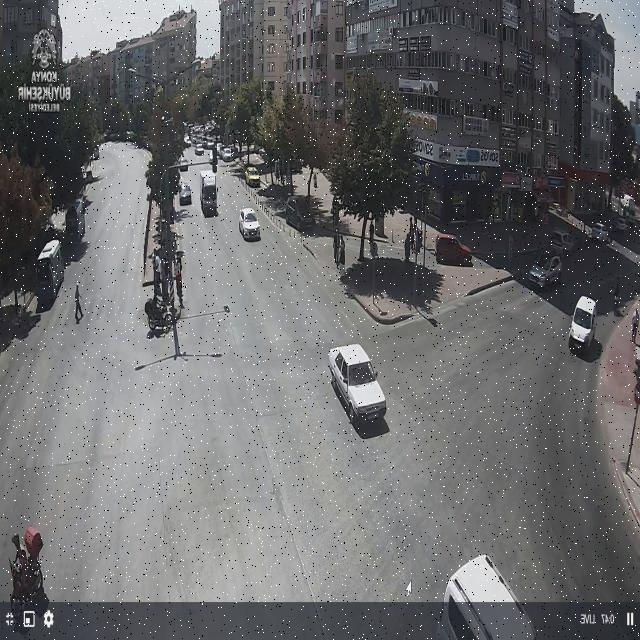Bus: (36, 239, 66, 308)
Car: (441, 556, 535, 638), (325, 344, 394, 423), (526, 255, 562, 289), (435, 233, 473, 264), (285, 197, 315, 231), (548, 230, 578, 256), (238, 207, 261, 240), (588, 223, 610, 244), (612, 216, 631, 233), (244, 166, 260, 186), (179, 183, 192, 205), (220, 148, 234, 162), (180, 157, 188, 171), (204, 140, 214, 150), (194, 144, 203, 155)
Cycle: (8, 521, 48, 614)
Truck: (200, 171, 218, 215)
Van: (570, 296, 598, 349)
